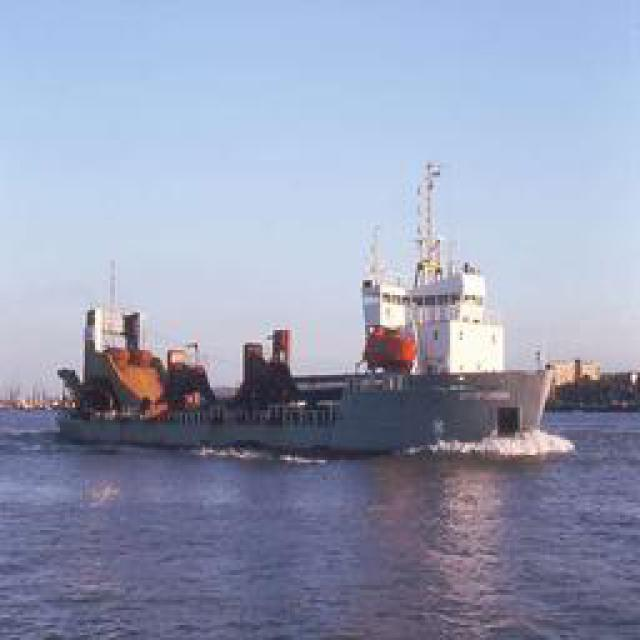Ship: (67, 154, 555, 459)
